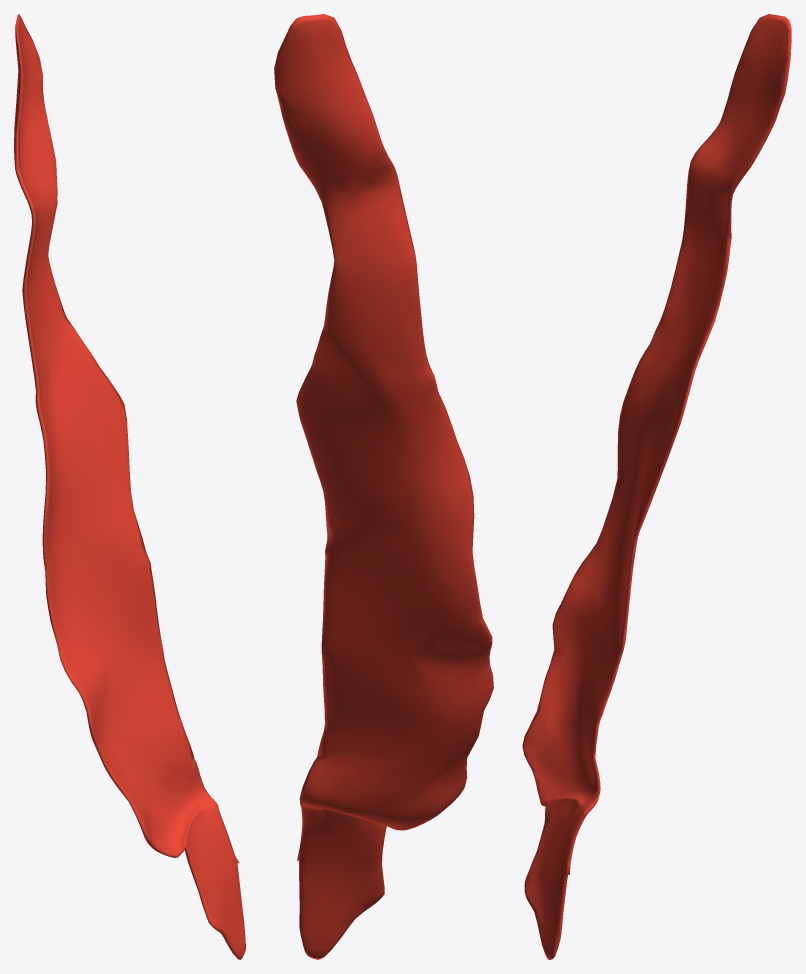
File: Transversus_thoracis_muscle-Sternal_insertion.r_Generated_Mesh_.glb
3 renders of one model, left to right at view 1: azimuth 30°, elevation 25°; view 2: azimuth 150°, elevation 25°; view 3: azimuth 270°, elevation 25°, orthographic. The views are drawn at different scales.
Visible parts, largest first — view 1: Transversus_thoracis_muscle-Sternal_insertion.r_Generated_Me; view 2: Transversus_thoracis_muscle-Sternal_insertion.r_Generated_Me; view 3: Transversus_thoracis_muscle-Sternal_insertion.r_Generated_Me.
Part boxes in pixels (<box>): Transversus_thoracis_muscle-Sternal_insertion.r_Generated_Me: <box>14,14,245,959</box>; Transversus_thoracis_muscle-Sternal_insertion.r_Generated_Me: <box>274,14,493,959</box>; Transversus_thoracis_muscle-Sternal_insertion.r_Generated_Me: <box>522,14,791,959</box>.
Bounding box in the file's own units: 0.0208 × 0.1025 × 0.0281.
